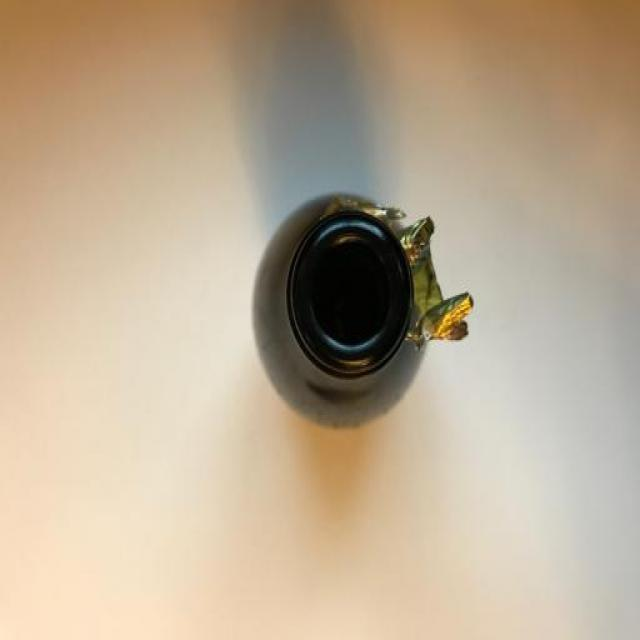glass: (266, 156, 501, 472)
